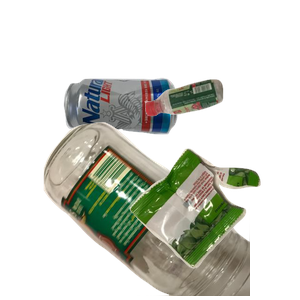glass: (41, 120, 281, 300)
metal: (61, 75, 231, 202)
plastic: (142, 77, 300, 186)
trash: (127, 146, 300, 300)
